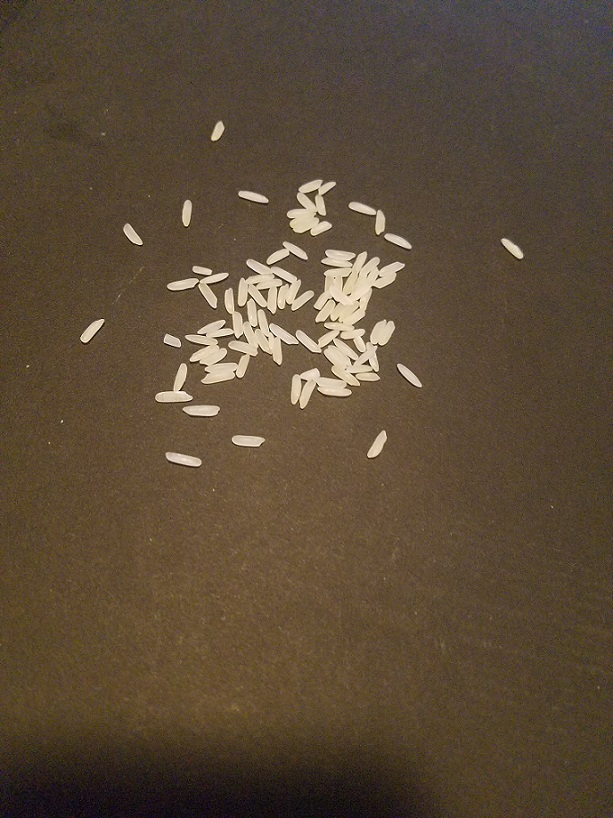egg: (396, 362, 424, 388), (295, 329, 323, 353), (270, 323, 300, 345), (80, 318, 104, 345), (331, 365, 361, 386), (332, 338, 359, 361), (366, 429, 387, 458), (165, 451, 202, 467), (189, 345, 221, 363), (197, 283, 219, 309), (297, 379, 316, 409), (281, 241, 309, 261), (227, 339, 258, 357), (501, 237, 525, 260), (290, 290, 315, 312), (353, 344, 379, 365), (246, 284, 268, 308), (199, 347, 228, 365), (377, 320, 396, 347), (327, 287, 354, 306), (383, 233, 413, 250), (182, 404, 221, 417), (338, 301, 361, 323), (351, 279, 373, 302), (315, 299, 336, 323), (327, 345, 352, 365), (238, 189, 269, 205), (166, 276, 199, 291), (255, 329, 274, 355), (271, 266, 298, 284), (123, 223, 144, 246), (196, 319, 226, 335), (232, 434, 266, 448), (316, 329, 341, 348), (369, 319, 387, 345), (366, 342, 381, 373), (242, 322, 259, 349), (200, 371, 235, 384), (266, 248, 291, 266), (372, 272, 397, 290), (378, 260, 406, 276), (246, 258, 272, 275), (155, 391, 194, 402), (290, 373, 303, 406), (315, 375, 348, 388), (362, 268, 380, 291), (309, 220, 333, 237), (246, 298, 260, 327), (348, 201, 377, 215), (185, 334, 218, 346), (351, 251, 369, 273), (349, 273, 366, 296), (286, 279, 301, 305), (293, 219, 319, 234), (198, 272, 230, 284), (315, 387, 353, 397), (360, 256, 380, 275), (257, 309, 270, 338), (174, 363, 187, 391), (255, 279, 283, 292), (203, 363, 239, 373), (272, 336, 284, 366), (245, 273, 275, 285), (325, 248, 355, 260), (324, 350, 346, 366), (236, 354, 250, 379), (343, 309, 366, 324), (237, 277, 248, 308), (287, 208, 318, 219), (181, 200, 193, 228), (277, 283, 289, 311), (344, 271, 358, 295), (321, 257, 354, 267), (374, 209, 386, 236), (358, 287, 372, 310), (267, 286, 278, 315), (210, 121, 225, 142), (224, 288, 236, 314), (340, 329, 366, 341), (299, 179, 323, 192), (232, 311, 243, 339), (299, 367, 321, 381), (314, 194, 328, 216), (296, 193, 316, 208), (317, 181, 337, 196), (323, 321, 355, 330), (163, 333, 182, 348), (313, 292, 328, 311), (331, 302, 345, 321), (289, 217, 312, 228), (206, 328, 234, 337), (324, 268, 352, 277), (344, 364, 374, 372), (333, 275, 344, 296), (356, 372, 379, 381), (192, 265, 212, 275), (354, 336, 366, 352), (325, 275, 333, 295)
